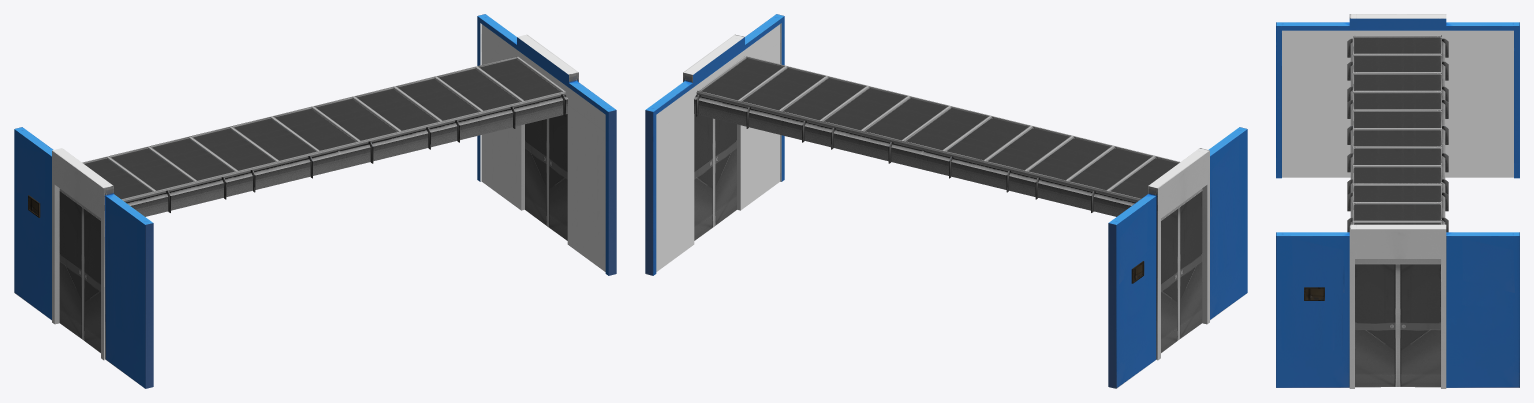
Rendered from Set7G1200_1225.obj.
3 views of the same model, side by side, from view 1: azimuth 30°, elevation 25°; view 2: azimuth 150°, elevation 25°; view 3: azimuth 270°, elevation 25° (orthographic). The views are drawn at different scales.
Parts seen in each view (by area): view 1: set7G1200; view 2: set7G1200; view 3: set7G1200.
Boxes of the visible parts, x1,y1,x2,y2 form: set7G1200: [14, 14, 616, 388]; set7G1200: [645, 14, 1247, 388]; set7G1200: [1276, 14, 1519, 388].
Bounding box in the file's own units: 7.52 × 2.6 × 3.6.
